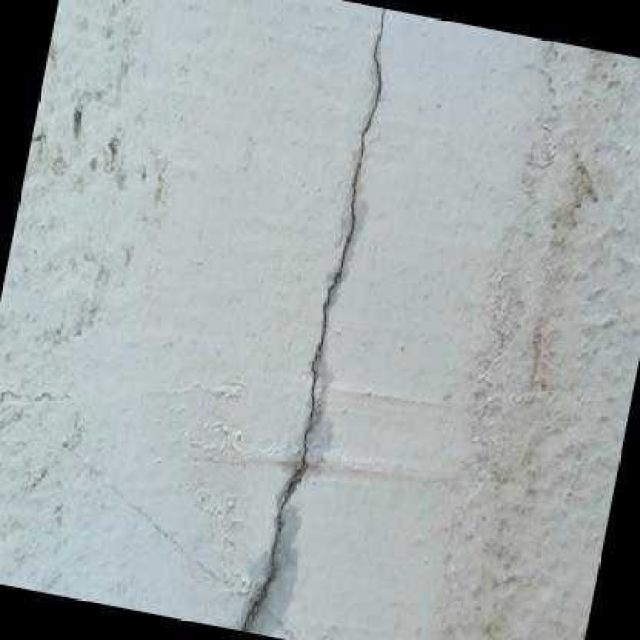D00: (240, 6, 384, 631)
